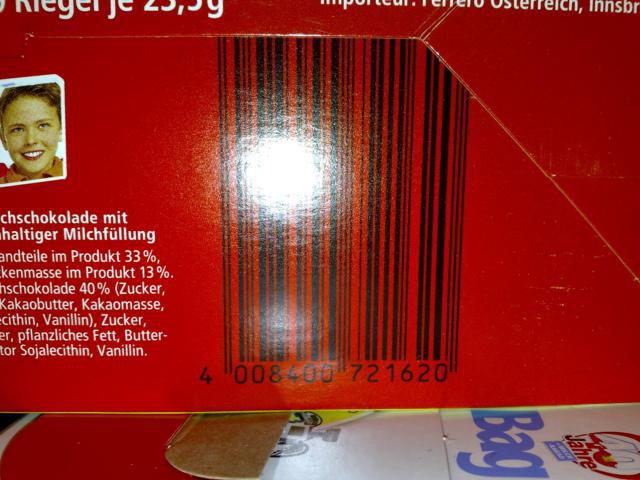Barkod: (215, 36, 466, 362)
